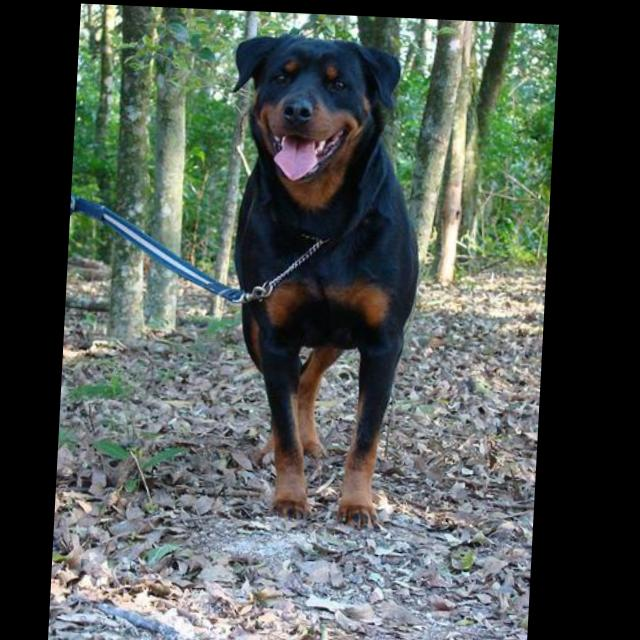rottweiler: (215, 29, 433, 529)
